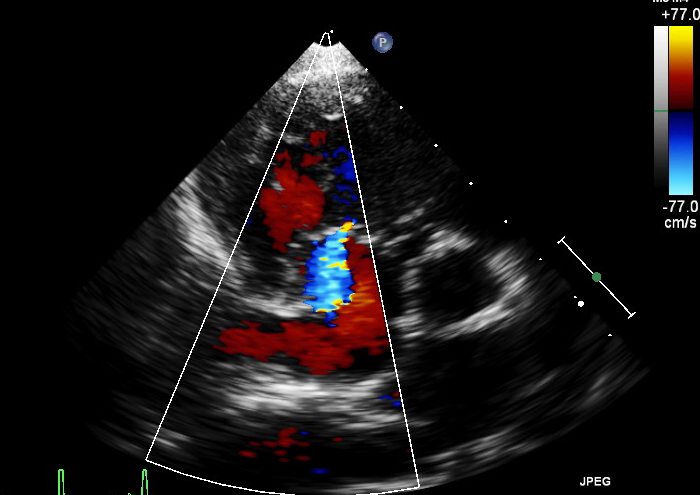TR: (295, 216, 367, 293)
